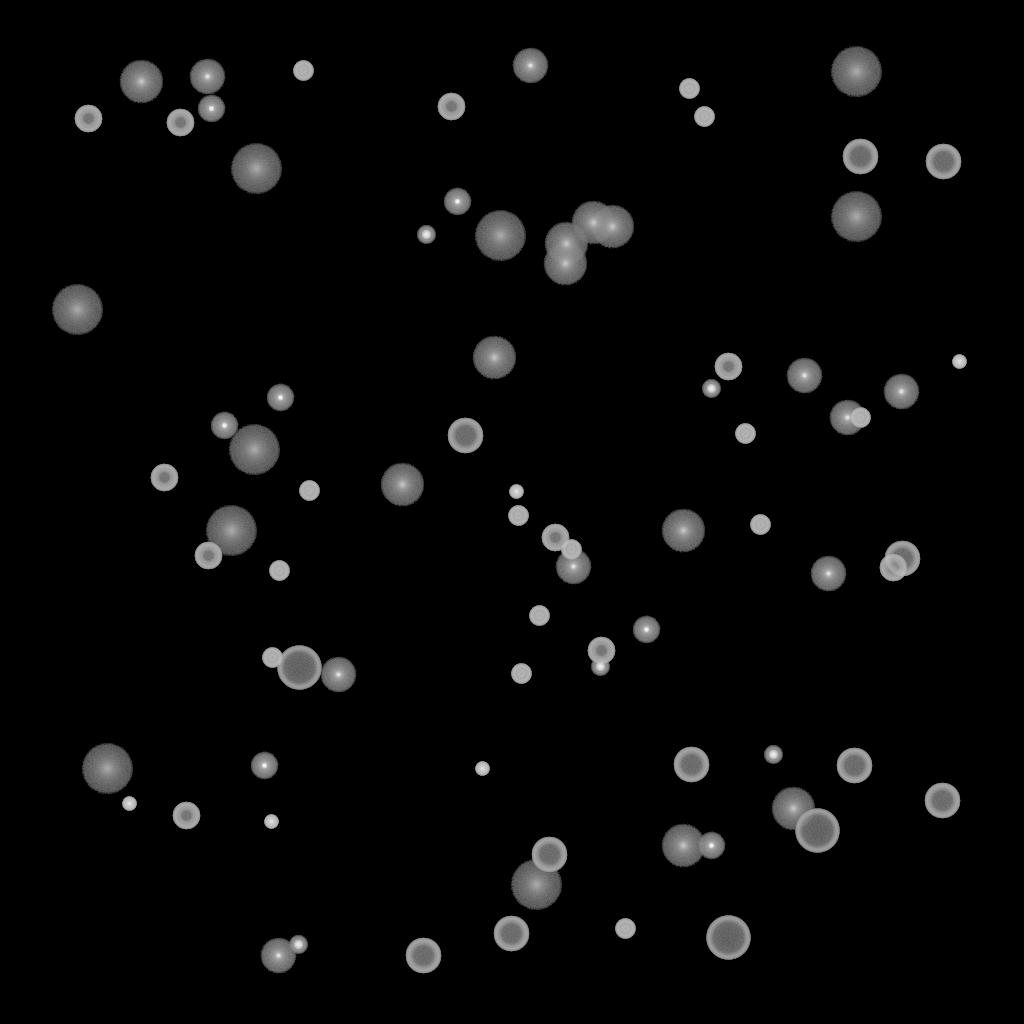depth:-10: (632, 616, 660, 644), (197, 95, 225, 123), (250, 752, 278, 780), (443, 188, 471, 216), (266, 384, 294, 412), (210, 412, 238, 440), (697, 832, 725, 860)
depth:-20: (591, 658, 609, 676), (764, 746, 782, 764), (417, 226, 435, 244), (289, 936, 307, 954), (702, 380, 720, 398)
depth:-30: (264, 815, 278, 829), (952, 355, 966, 369), (509, 485, 523, 499), (475, 762, 489, 776), (122, 797, 136, 811)
depth:-40: (694, 107, 714, 127), (850, 408, 870, 428), (299, 481, 319, 501), (615, 919, 635, 939), (735, 424, 755, 444), (561, 540, 581, 560), (750, 515, 770, 535), (529, 606, 549, 626), (269, 561, 289, 581), (293, 61, 313, 81), (679, 79, 699, 99), (511, 664, 531, 684), (508, 506, 528, 526), (262, 648, 282, 668)
depth:-50: (714, 353, 742, 381), (172, 802, 200, 830), (150, 464, 178, 492), (587, 637, 615, 665), (541, 524, 569, 552), (74, 105, 102, 133), (194, 542, 222, 570), (879, 554, 907, 582), (437, 93, 465, 121), (166, 109, 194, 137)
depth:-60: (884, 541, 920, 577), (493, 916, 529, 952), (842, 139, 878, 175), (673, 747, 709, 783), (924, 783, 960, 819), (531, 837, 567, 873), (925, 144, 961, 180), (836, 748, 872, 784), (405, 938, 441, 974), (447, 418, 483, 454)
depth:-70: (277, 646, 321, 690), (795, 809, 839, 853), (706, 916, 750, 960)
depth:0: (512, 48, 548, 84), (786, 358, 822, 394), (320, 657, 356, 693), (810, 556, 846, 592), (555, 549, 591, 585), (260, 938, 296, 974), (829, 400, 865, 436), (883, 374, 919, 410), (189, 59, 225, 95)
depth:10: (661, 509, 705, 553), (543, 242, 587, 286), (771, 787, 815, 831), (380, 463, 424, 507), (119, 60, 163, 104), (544, 222, 588, 266), (590, 205, 634, 249), (472, 336, 516, 380), (661, 824, 705, 868), (571, 201, 615, 245)
depth:20: (830, 192, 882, 242), (230, 144, 282, 194), (51, 285, 103, 335), (510, 860, 562, 910), (205, 506, 257, 556), (228, 425, 280, 475), (830, 47, 882, 97), (81, 744, 133, 794), (474, 211, 526, 261)
